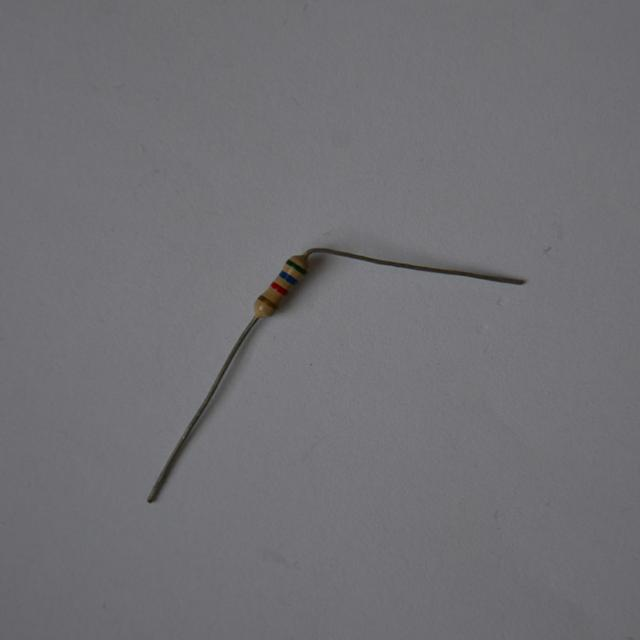blue: (277, 272, 298, 284)
gold: (258, 294, 276, 308)
green: (284, 260, 305, 275)
red: (269, 281, 287, 296)
resistor: (249, 256, 312, 322)
